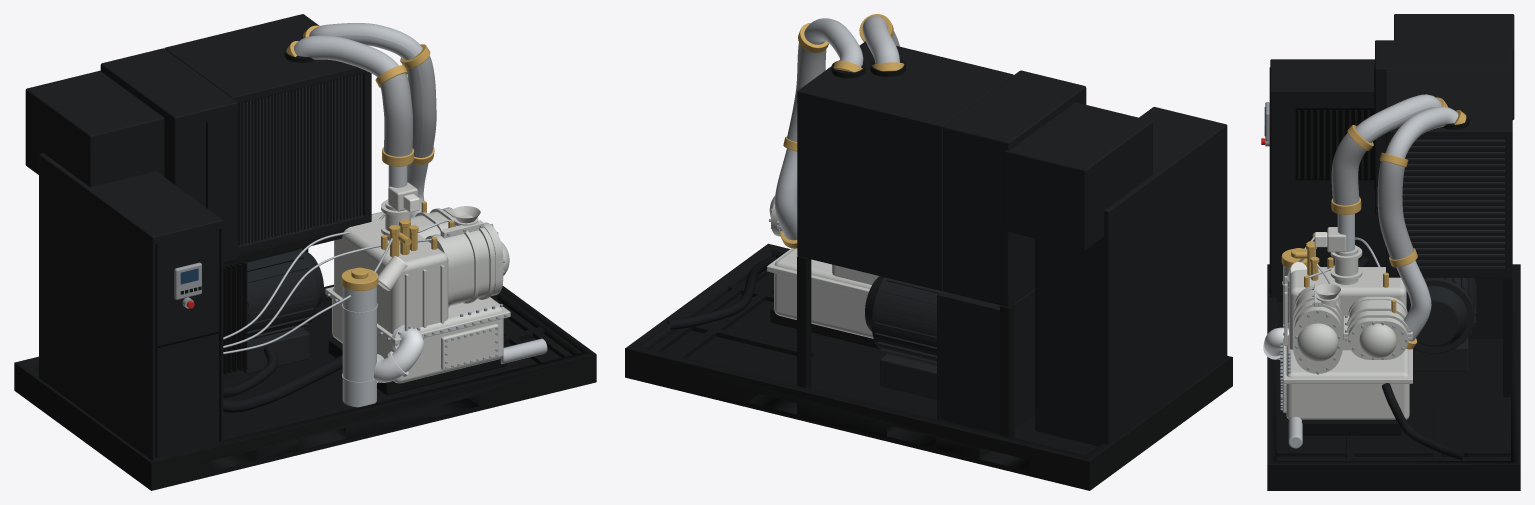
File: compressor.glb
The picture shows the model from 3 angles, left to right: view 1: azimuth 30°, elevation 25°; view 2: azimuth 150°, elevation 25°; view 3: azimuth 270°, elevation 25°; orthographic projection. The views are drawn at different scales.
Parts seen in each view (by area): view 1: cabinet, base, cooler_fins, cooler_side_box, fan_housing, cooler_frame, gearbox_upper, silencer, gearbox, motor_body, motor_ribs, shroud_slats (+22 smaller); view 2: cabinet, base, cooler_frame, cooler_side_box, fan_housing, shroud, gearbox, cooler_legs, tray_rails, motor_body, motor_ribs, motor_feet (+8 smaller); view 3: base, cooler_frame, cabinet, cooler_fins, gearbox, cooler_side_box, fan_housing, gearbox_upper, cabinet_louvres, pipe_b_sleeve, tray_rails, cabinet_louvre_well (+30 smaller).
Part boxes in pixels (box(x1,y1,x2,y2)): cabinet: box(39, 153, 223, 460); base: box(14, 284, 596, 490); cooler_fins: box(238, 73, 362, 245); cooler_side_box: box(100, 48, 237, 263); fan_housing: box(25, 70, 164, 186); cooler_frame: box(164, 14, 371, 254); gearbox_upper: box(334, 211, 448, 333); silencer: box(342, 286, 376, 407); gearbox: box(332, 288, 503, 383); motor_body: box(246, 248, 317, 337); motor_ribs: box(245, 249, 314, 341); shroud_slats: box(223, 262, 247, 374); cabinet: box(1035, 107, 1227, 446); base: box(625, 243, 1232, 490); cooler_frame: box(797, 41, 1013, 291); cooler_side_box: box(943, 70, 1086, 306); fan_housing: box(1004, 102, 1152, 250); shroud: box(937, 288, 1035, 434); gearbox: box(774, 248, 873, 338); cooler_legs: box(797, 256, 1014, 437); tray_rails: box(650, 256, 813, 357); motor_body: box(871, 277, 937, 361); motor_ribs: box(874, 278, 941, 366); motor_feet: box(880, 354, 936, 399); base: box(1267, 264, 1520, 490); cooler_frame: box(1386, 69, 1512, 277); cabinet: box(1270, 59, 1385, 301); cooler_fins: box(1392, 139, 1504, 268); gearbox: box(1286, 334, 1409, 419); cooler_side_box: box(1375, 40, 1512, 214); fan_housing: box(1394, 14, 1514, 119); gearbox_upper: box(1289, 267, 1406, 350); cabinet_louvres: box(1297, 110, 1374, 179); pipe_b_sleeve: box(1377, 160, 1413, 259); tray_rails: box(1276, 409, 1510, 460); cabinet_louvre_well: box(1295, 108, 1374, 180).
Bounding box in the file's own units: 3 × 2.15 × 1.64.
